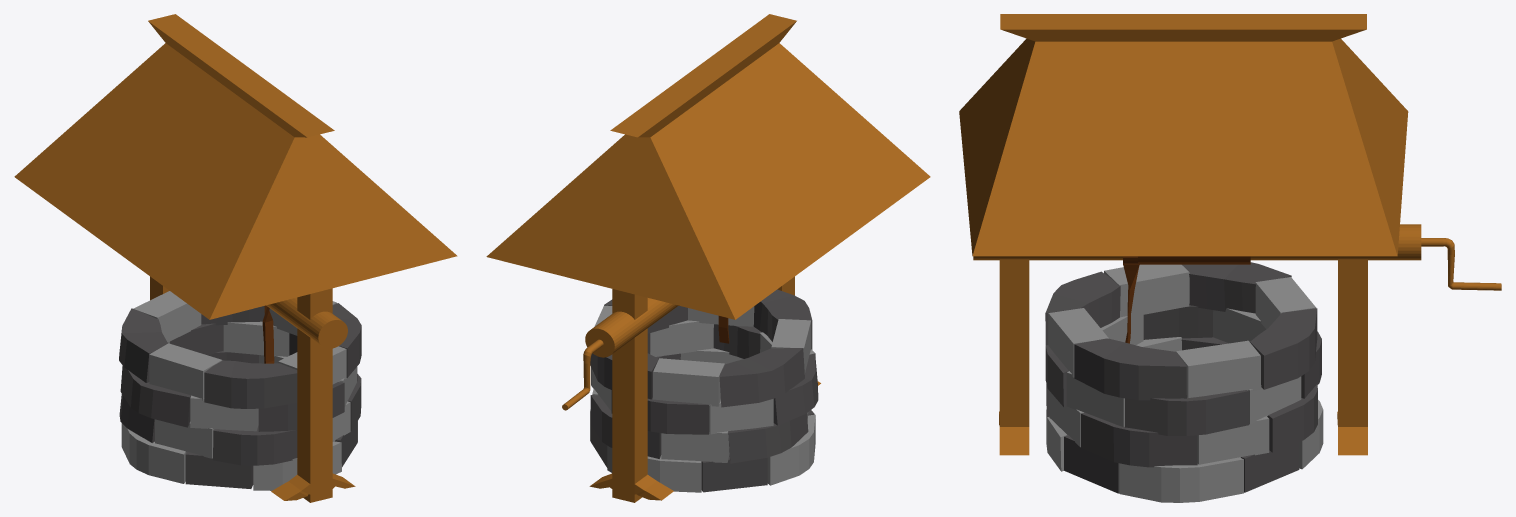
File: _ell.fbx
The picture shows the model from 3 angles, left to right: view 1: azimuth 30°, elevation 25°; view 2: azimuth 150°, elevation 25°; view 3: azimuth 270°, elevation 25°; orthographic projection. The views are drawn at different scales.
Parts seen in each view (by area): view 1: Well; view 2: Well; view 3: Well.
Part boxes in pixels (x1,y1,x2,y2): Well: [14, 14, 457, 502]; Well: [486, 14, 930, 502]; Well: [959, 14, 1501, 502].
Bounding box in the file's own units: 180 × 250 × 290.
